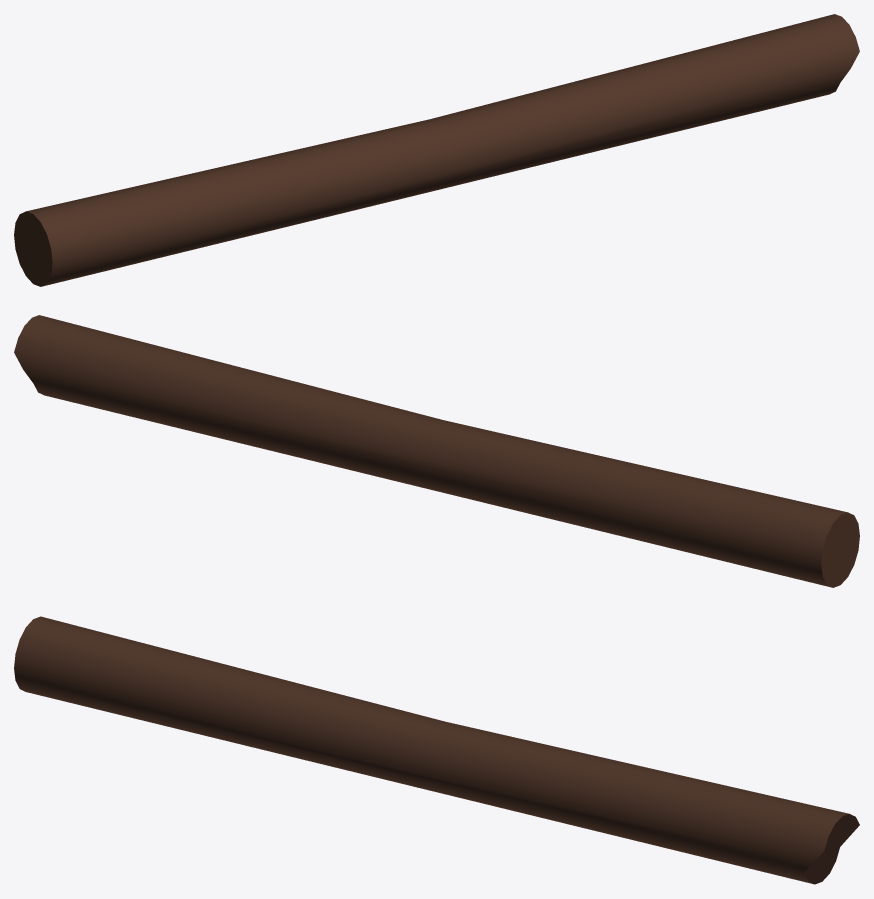
File: FallenTree.fbx
3 renders of one model, top to bottom at view 1: azimuth 30°, elevation 25°; view 2: azimuth 150°, elevation 25°; view 3: azimuth 330°, elevation 25°, orthographic.
Visible parts, largest first — view 1: FallenTree; view 2: FallenTree; view 3: FallenTree.
Boxes of the visible parts, x1=… form: FallenTree: x1=14, y1=14, x2=859, y2=286; FallenTree: x1=14, y1=315, x2=859, y2=587; FallenTree: x1=14, y1=616, x2=859, y2=884.
Size of the model in its own units: 1000 by 82.84 by 82.84.
